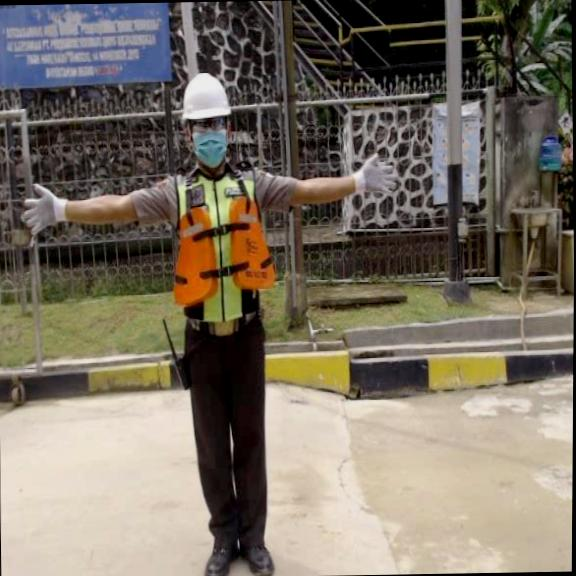safety_vest: (171, 194, 278, 314)
